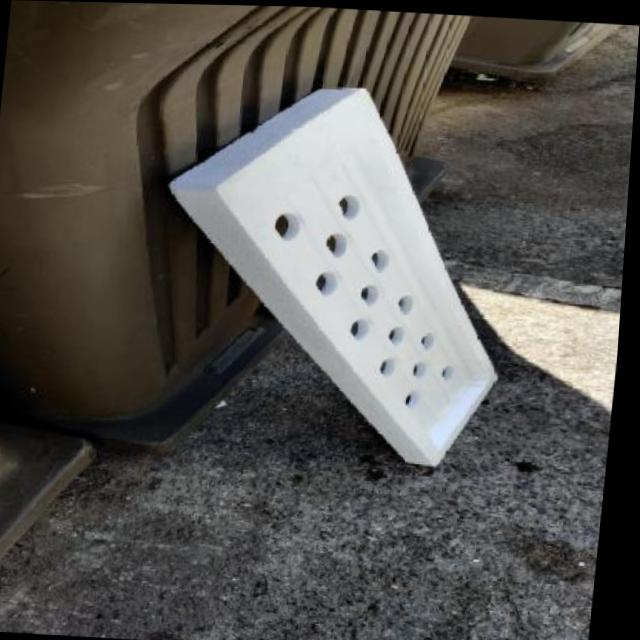foam: (129, 76, 531, 472)
